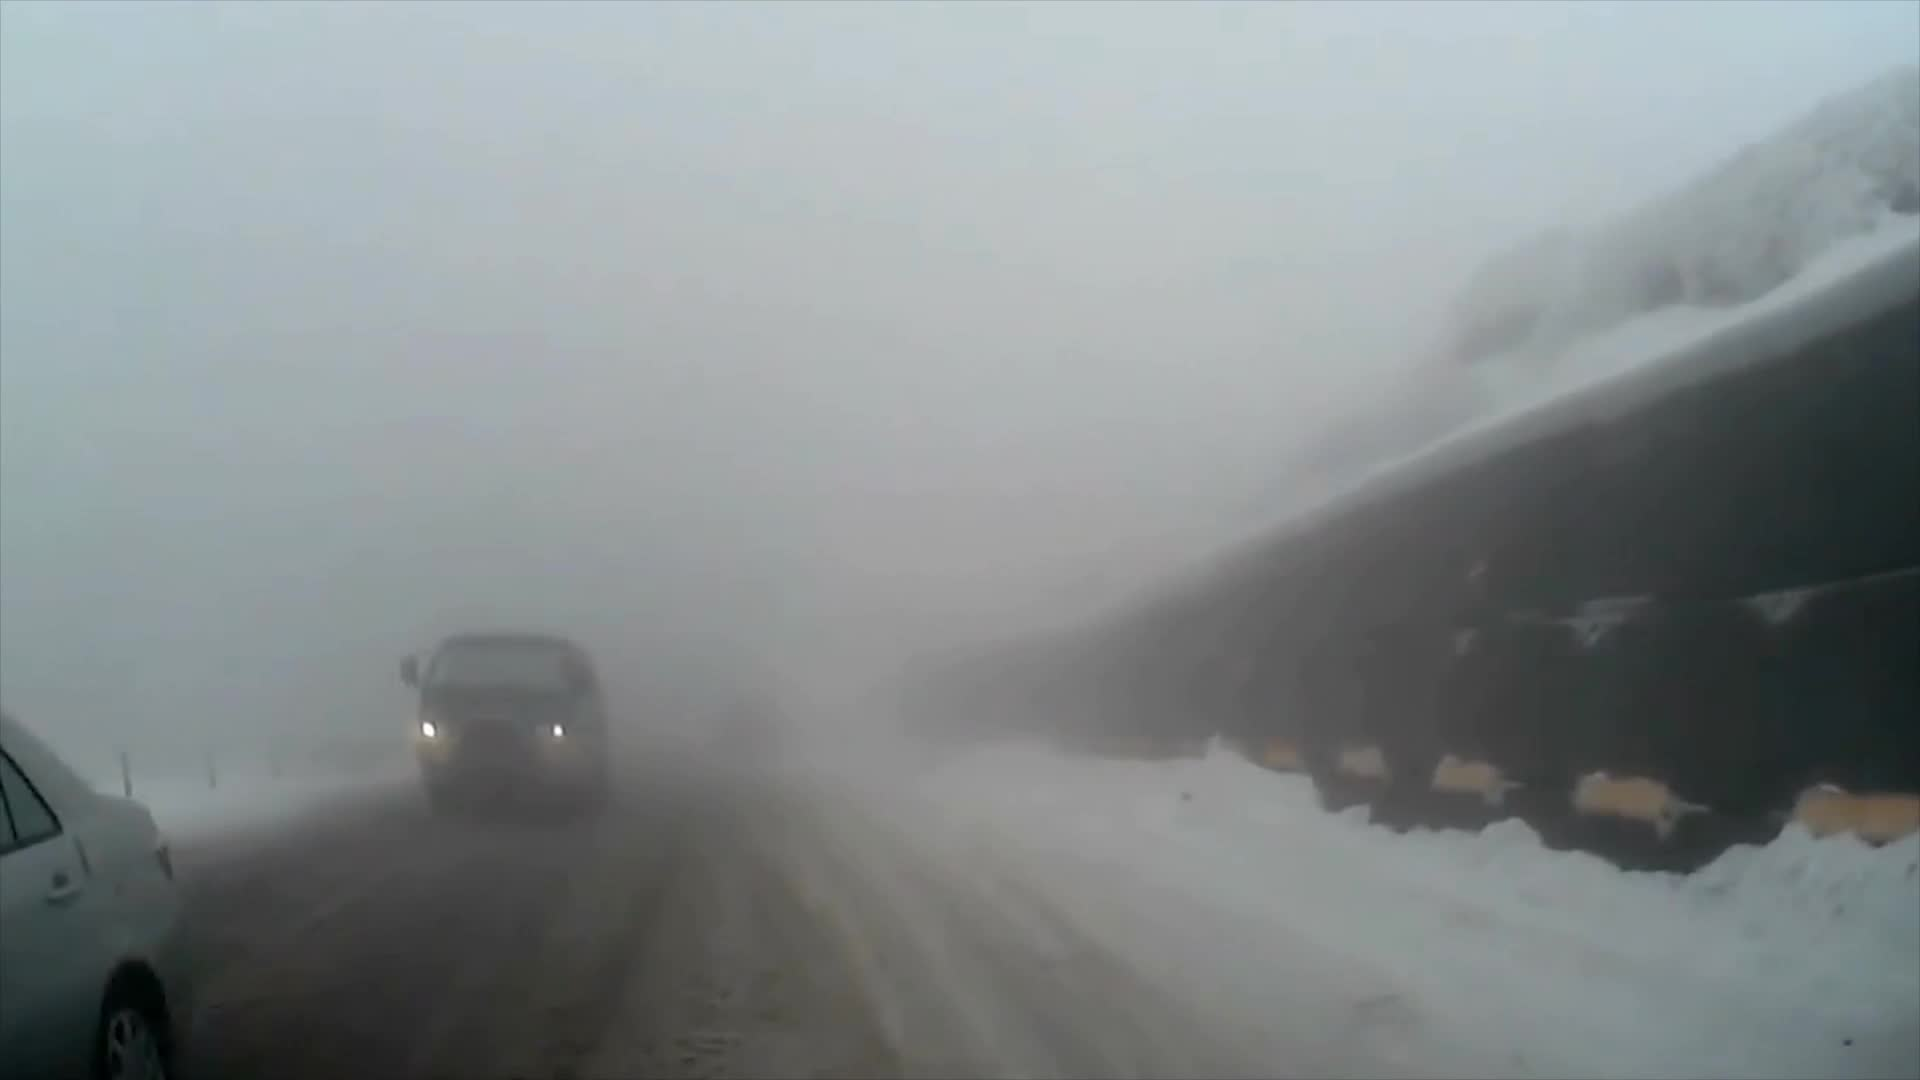vehicle: (0, 713, 186, 1080), (396, 633, 613, 825)
